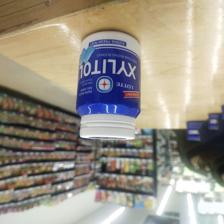Xylitol_blue: (74, 31, 143, 143)
